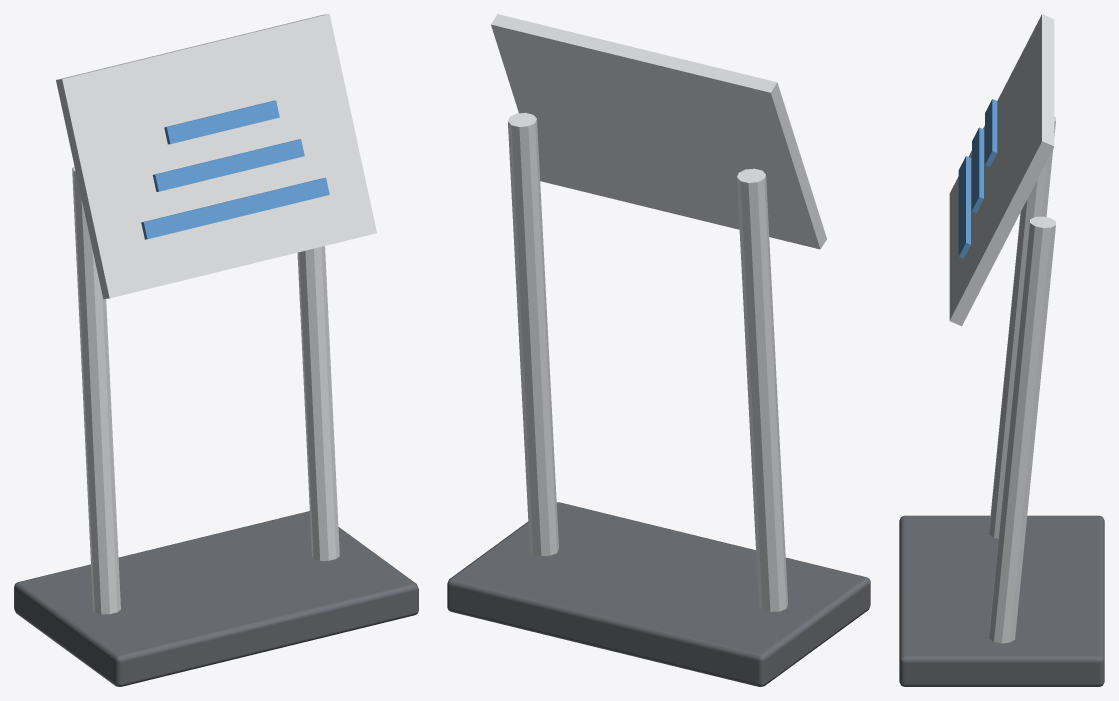
Rendered from solar-system-and-astronauts-mission-plaque-22aefed0__39250.glb.
3 renders of one model, left to right at view 1: azimuth 30°, elevation 25°; view 2: azimuth 150°, elevation 25°; view 3: azimuth 270°, elevation 25°, orthographic. The views are drawn at different scales.
Visible parts, largest first — view 1: mission-plaque; view 2: mission-plaque; view 3: mission-plaque.
Boxes of the visible parts, left/top/right/bottom form: mission-plaque: left=14, top=14, right=418, bottom=686; mission-plaque: left=447, top=14, right=870, bottom=686; mission-plaque: left=899, top=14, right=1104, bottom=686.
Bounding box in the file's own units: 0.5 × 0.8692 × 0.3.
